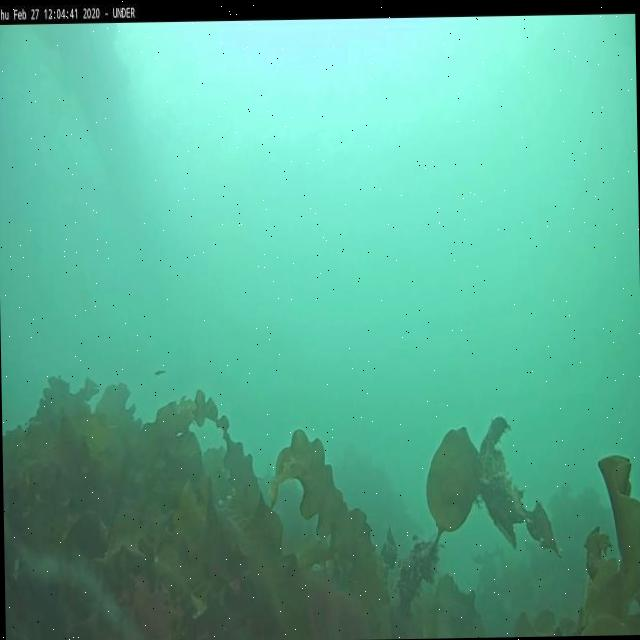fish: (153, 366, 167, 376)
